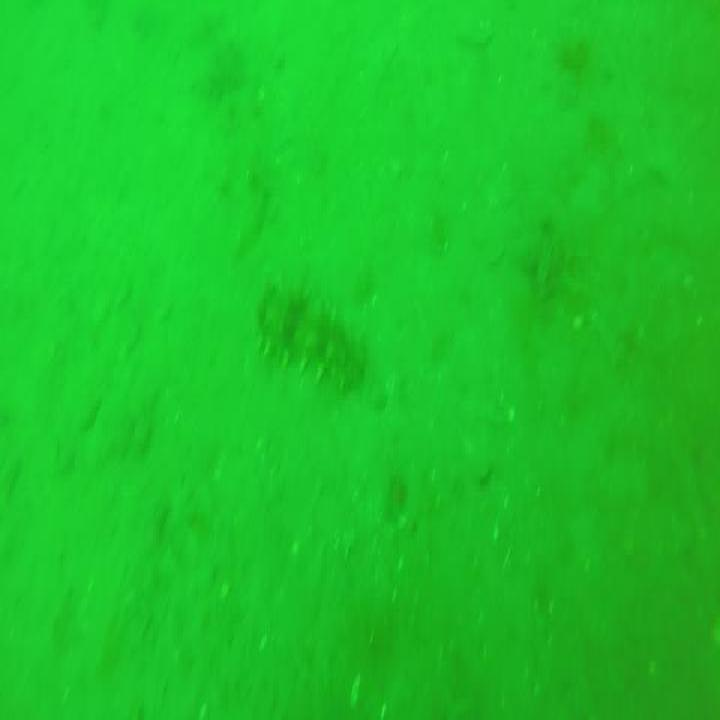holothurian: (246, 281, 357, 387)
starfish: (522, 219, 586, 298)
